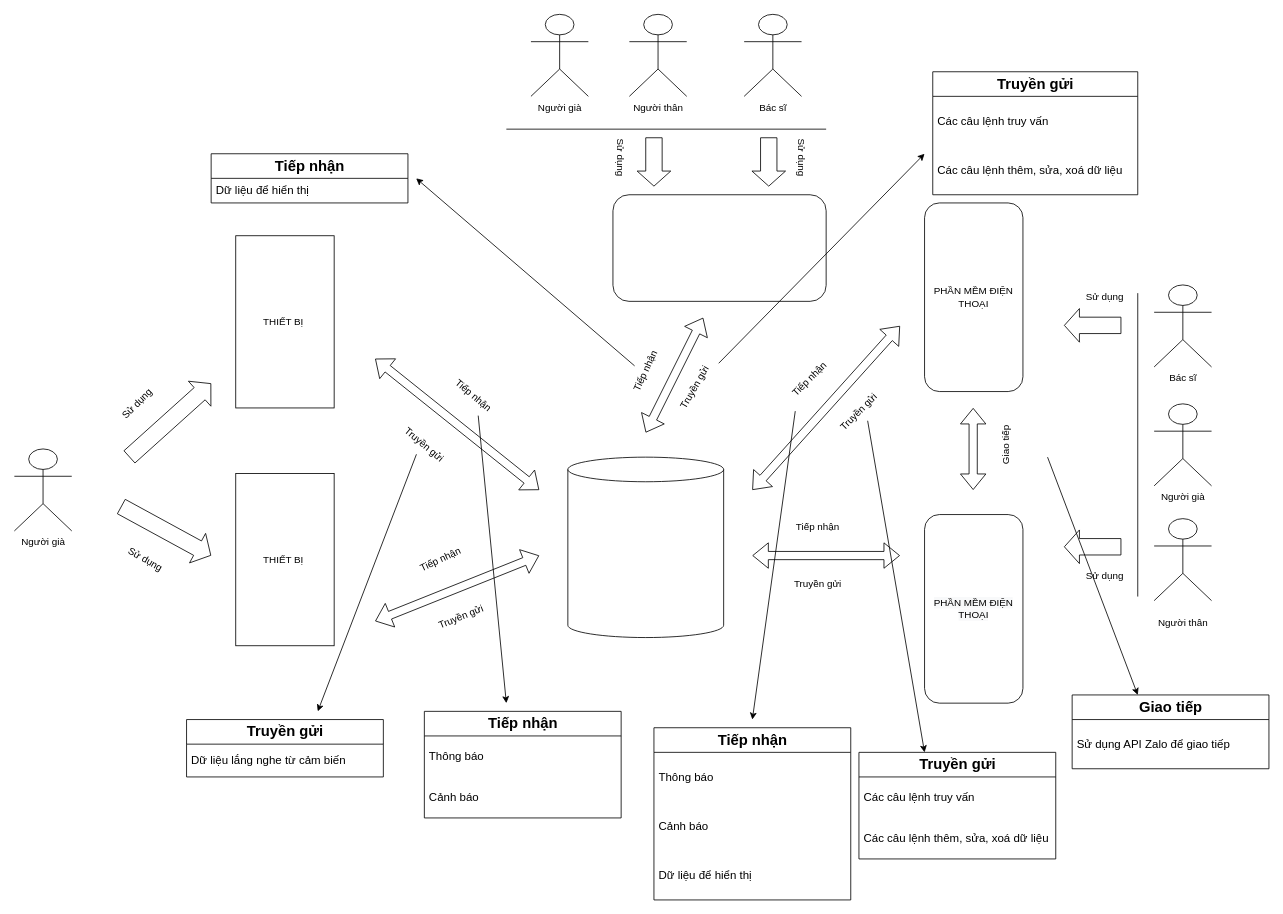
Image size: 1283x914. Some labels were removed from this diagram. Here are the shapes that lost their labels. From the top down, the centre of each, then its label:
(x=719, y=247): WEBPAGE
(x=645, y=547): WEBSERVER
